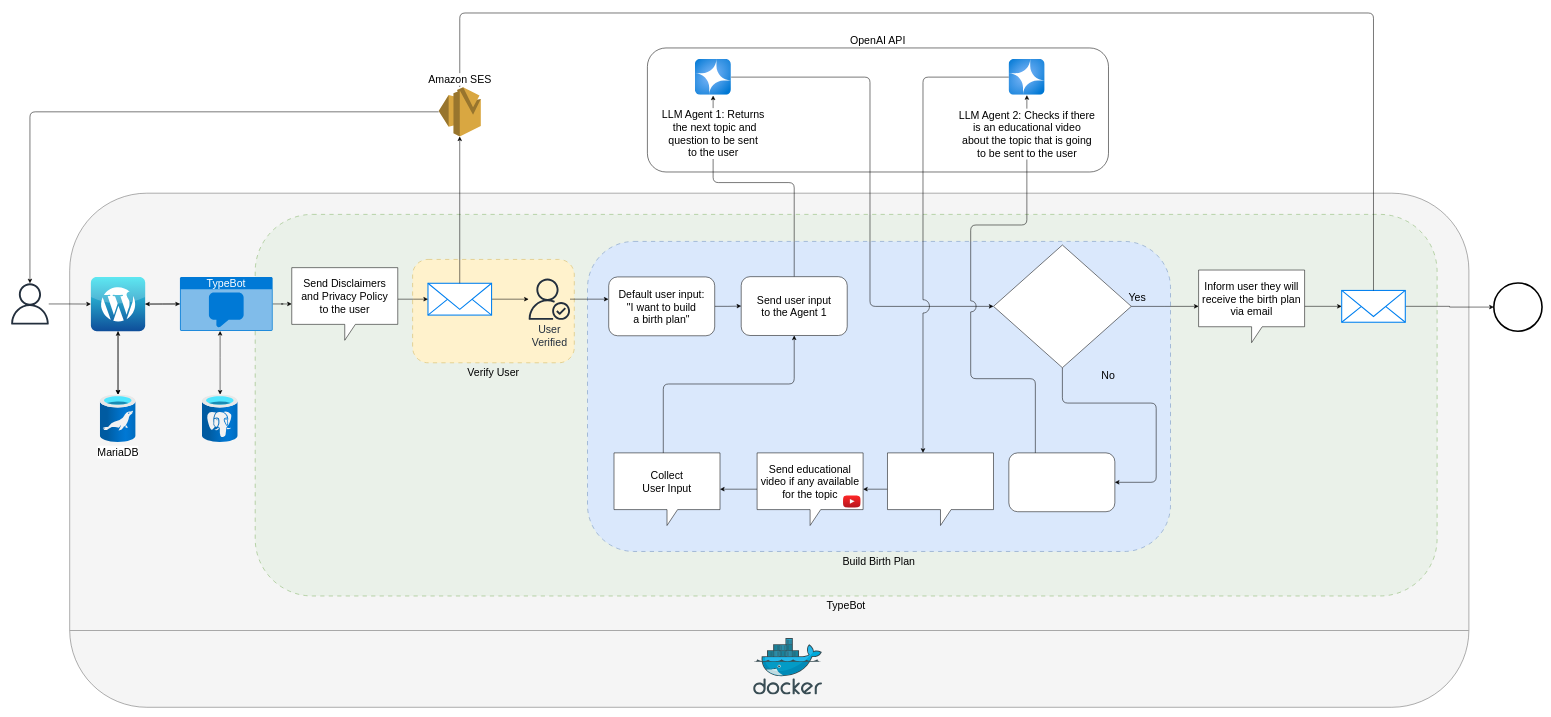
Image size: 1551x717. Some labels were removed from this diagram. The centre of each missing label's shape, as x and y in pixels:
does the LLM message contains the tag " #birth_plan_ completed" ?: point (1062, 306)
Postgres: point (220, 418)
Send Birth Plan: point (1373, 306)
Send next question to the 2nd Agent before sending it to the user: point (1061, 482)
Send question and comments to the user: point (940, 488)
Send verification code: point (459, 298)
User: point (29, 303)
Wordpress: point (117, 303)
